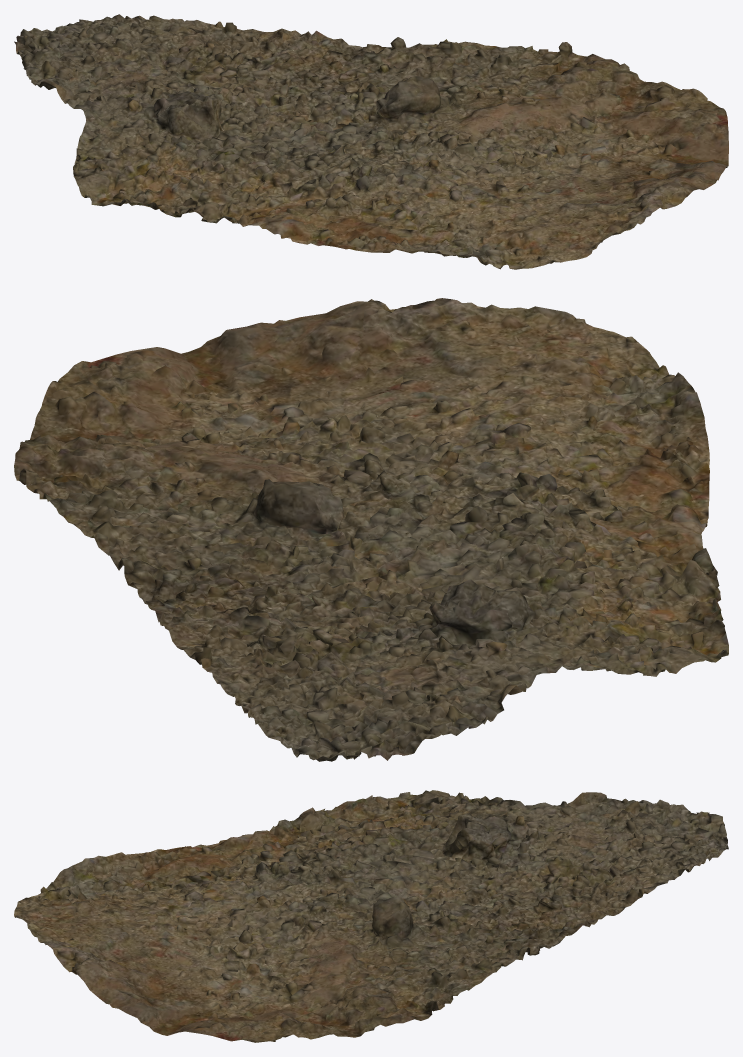
File: coast_land_rocks_04.glb
3 renders of one model, top to bottom at view 1: azimuth 30°, elevation 25°; view 2: azimuth 150°, elevation 25°; view 3: azimuth 270°, elevation 25°, orthographic. The views are drawn at different scales.
Visible parts, largest first — view 1: coast_land_rocks_04_LOD0; view 2: coast_land_rocks_04_LOD0; view 3: coast_land_rocks_04_LOD0.
Boxes of the visible parts, left/top/right/bottom form: coast_land_rocks_04_LOD0: left=14, top=14, right=728, bottom=269; coast_land_rocks_04_LOD0: left=14, top=298, right=728, bottom=761; coast_land_rocks_04_LOD0: left=14, top=790, right=728, bottom=1042.
Bounding box in the file's own units: 9.96 × 0.8315 × 11.5.
1 material, 1 textured.
